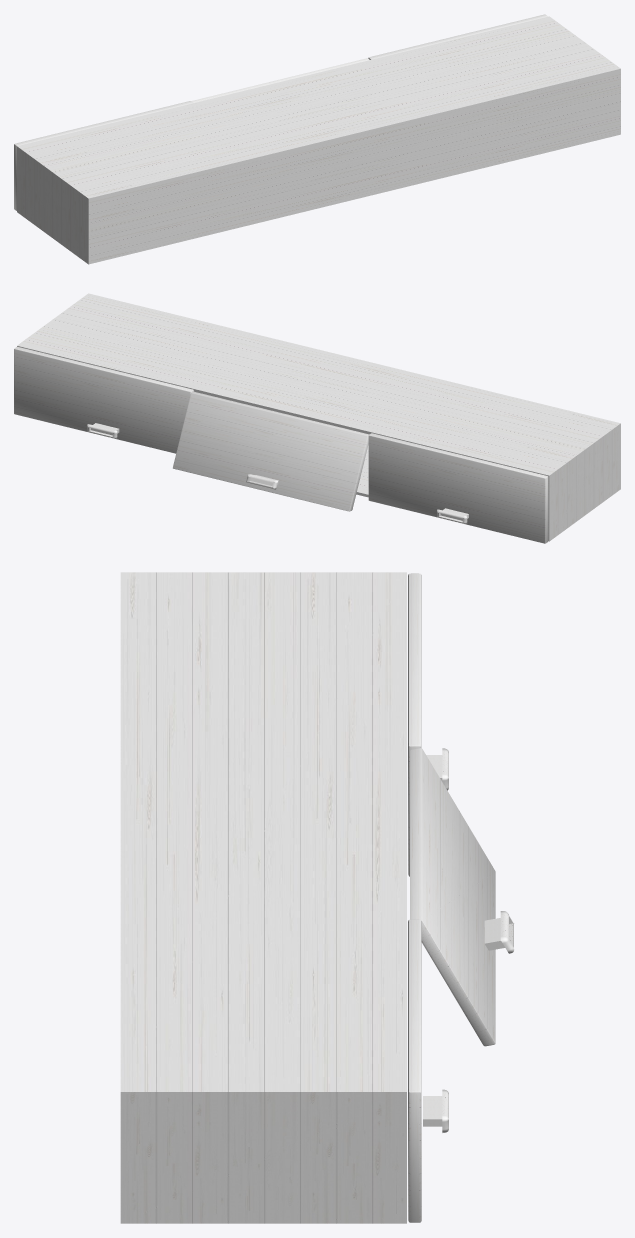
Rendered from Repisa_3.obj.
The picture shows the model from 3 angles, top to bottom: view 1: azimuth 30°, elevation 25°; view 2: azimuth 150°, elevation 25°; view 3: azimuth 270°, elevation 25°; orthographic projection. The views are drawn at different scales.
Bounding box in the file's own units: 211 × 24.91 × 67.38.
Materials: 1 (1 with a texture image).
